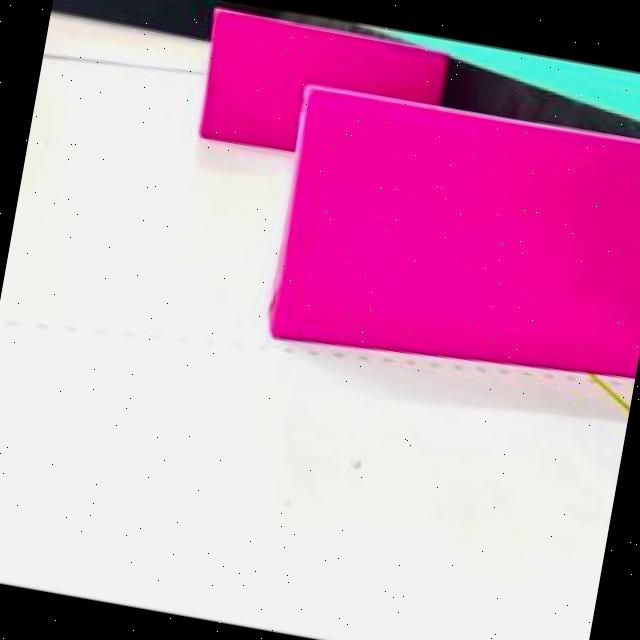xparking: (267, 84, 640, 400), (194, 8, 314, 154)
